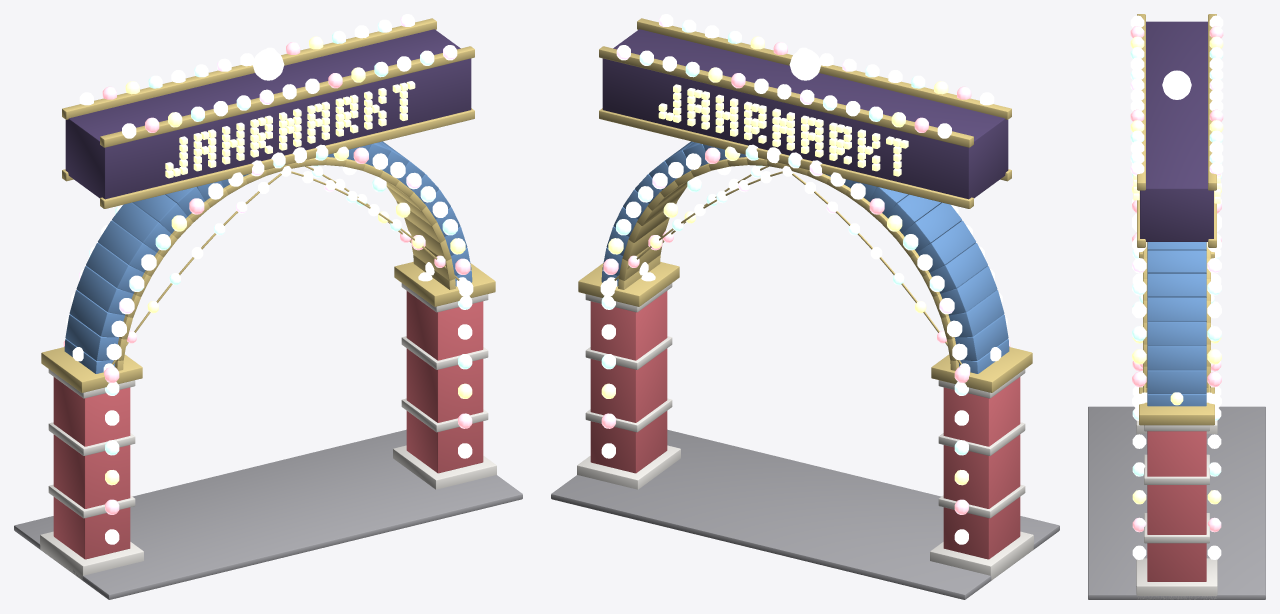
File: th13_lichterbogen.glb
3 renders of one model, left to right at view 1: azimuth 30°, elevation 25°; view 2: azimuth 150°, elevation 25°; view 3: azimuth 270°, elevation 25°, orthographic. The views are drawn at different scales.
Visible parts, largest first — view 1: Cube, Cube.065, Cube.002, Cube.008, Cube.260, Cube.259, Cube.258, Cube.006, Cube.001, Cube.012, Cube.007, Cube.053 (+11 smaller); view 2: Cube, Cube.065, Cube.002, Cube.008, Cube.258, Cube.261, Cube.260, Cube.006, Cube.001, Cube.012, Cube.007, Cube.053 (+11 smaller); view 3: Cube, Cube.065, Cube.008, Cube.007, Cube.012, Cube.017, Cube.019, Cube.021, Cube.023, Cube.025, Cube.015, Cube.010 (+7 smaller).
Part boxes in pixels (x1=…): Cube: x1=14, y1=429, x2=522, y2=599; Cube.065: x1=65, y1=29, x2=471, y2=199; Cube.002: x1=53, y1=377, x2=130, y2=559; Cube.008: x1=406, y1=291, x2=483, y2=473; Cube.260: x1=62, y1=18, x2=436, y2=119; Cube.259: x1=100, y1=108, x2=474, y2=208; Cube.258: x1=100, y1=46, x2=474, y2=147; Cube.006: x1=41, y1=347, x2=142, y2=392; Cube.001: x1=40, y1=531, x2=143, y2=580; Cube.012: x1=394, y1=262, x2=495, y2=306; Cube.007: x1=393, y1=445, x2=496, y2=489; Cube.053: x1=98, y1=220, x2=156, y2=272; Cube: x1=551, y1=429, x2=1059, y2=599; Cube.065: x1=602, y1=29, x2=1008, y2=199; Cube.002: x1=943, y1=377, x2=1020, y2=559; Cube.008: x1=590, y1=291, x2=667, y2=473; Cube.258: x1=637, y1=18, x2=1011, y2=119; Cube.261: x1=599, y1=108, x2=973, y2=208; Cube.260: x1=599, y1=46, x2=973, y2=147; Cube.006: x1=931, y1=347, x2=1032, y2=392; Cube.001: x1=930, y1=531, x2=1033, y2=580; Cube.012: x1=578, y1=262, x2=679, y2=306; Cube.007: x1=577, y1=445, x2=680, y2=489; Cube.053: x1=917, y1=220, x2=975, y2=272; Cube: x1=1088, y1=406, x2=1265, y2=599; Cube.065: x1=1140, y1=21, x2=1213, y2=241; Cube.008: x1=1147, y1=431, x2=1206, y2=581; Cube.007: x1=1136, y1=558, x2=1217, y2=599; Cube.012: x1=1139, y1=387, x2=1214, y2=425; Cube.017: x1=1147, y1=346, x2=1206, y2=370; Cube.019: x1=1147, y1=321, x2=1206, y2=345; Cube.021: x1=1147, y1=297, x2=1206, y2=321; Cube.023: x1=1147, y1=273, x2=1206, y2=297; Cube.025: x1=1147, y1=250, x2=1206, y2=273; Cube.015: x1=1147, y1=370, x2=1206, y2=393; Cube.010: x1=1144, y1=454, x2=1209, y2=484.
Bounding box in the file's own units: 9.04 × 9.69 × 3.6.
